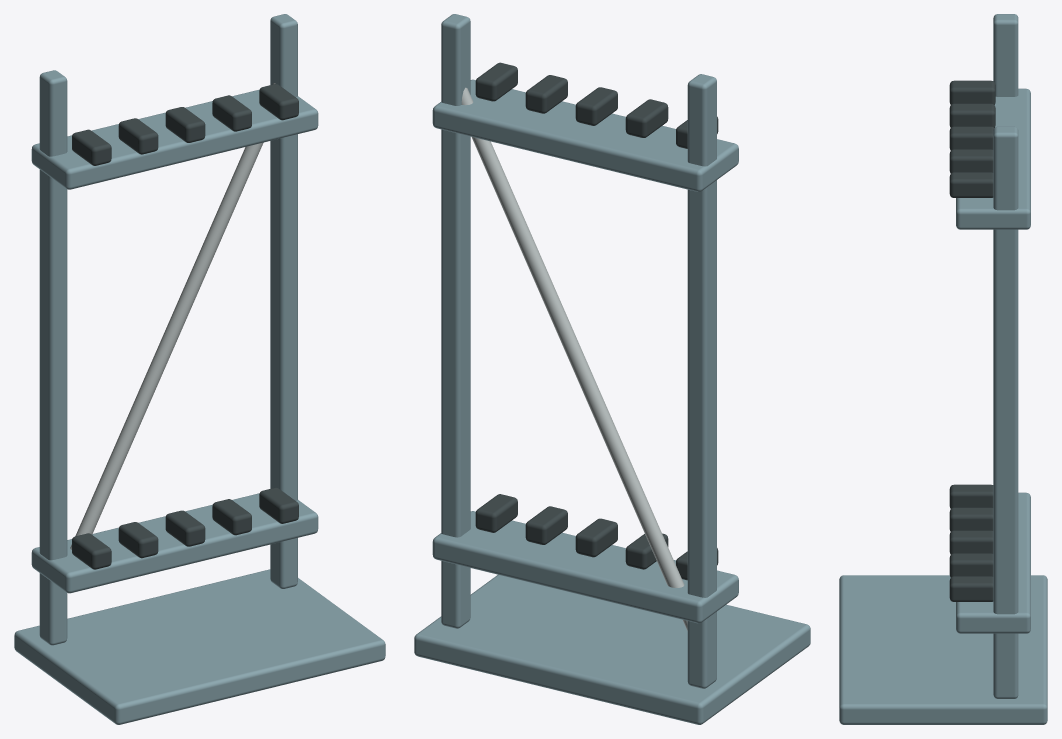
File: abandoned-tidal-model-testing-hall-probe-storage-rack-98974dd6__32373.glb
The picture shows the model from 3 angles, left to right: view 1: azimuth 30°, elevation 25°; view 2: azimuth 150°, elevation 25°; view 3: azimuth 270°, elevation 25°; orthographic projection. The views are drawn at different scales.
Visible parts, largest first — view 1: probe-storage-rack; view 2: probe-storage-rack; view 3: probe-storage-rack.
Part boxes in pixels (box(x1,y1,x2,y2)): probe-storage-rack: box(14, 14, 385, 724); probe-storage-rack: box(414, 14, 810, 724); probe-storage-rack: box(839, 14, 1047, 724).
Size of the model in its own units: 0.75 by 1.55 by 0.5.
